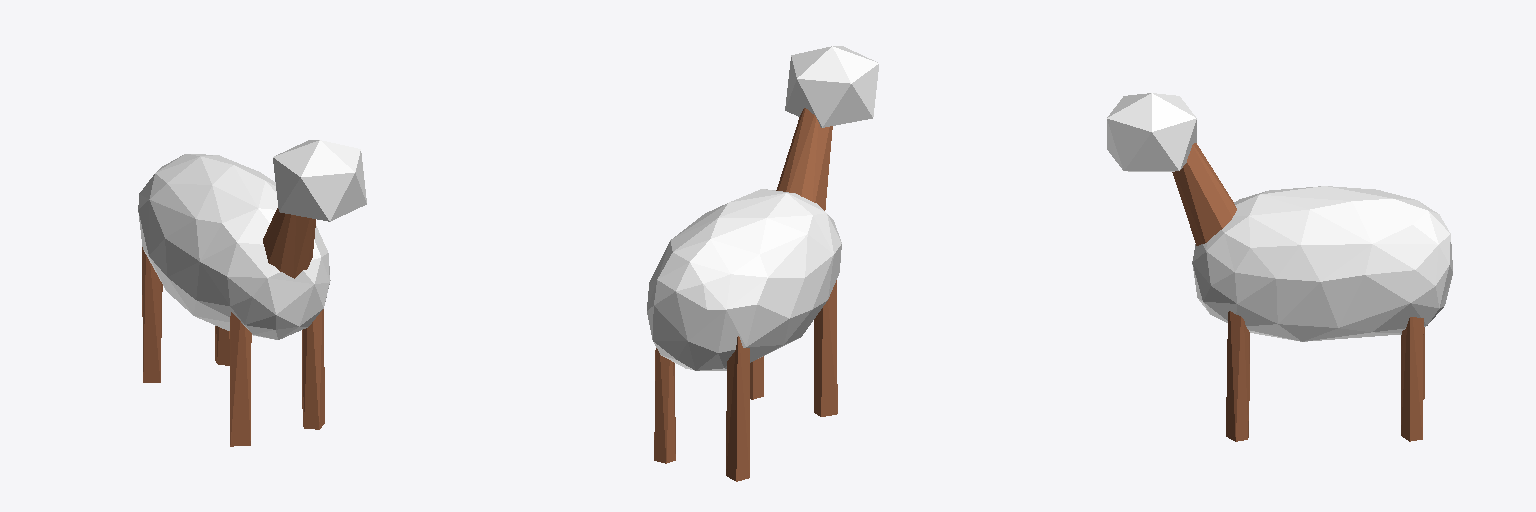
The picture shows the model from 3 angles: view 1: azimuth 30°, elevation 25°; view 2: azimuth 150°, elevation 25°; view 3: azimuth 270°, elevation 25°; orthographic projection.
Parts seen in each view (by area): view 1: GoodSheepMesh_Icosphere.001; view 2: GoodSheepMesh_Icosphere.001; view 3: GoodSheepMesh_Icosphere.001.
Boxes of the visible parts, x1=… form: GoodSheepMesh_Icosphere.001: x1=138, y1=140, x2=366, y2=446; GoodSheepMesh_Icosphere.001: x1=647, y1=46, x2=878, y2=481; GoodSheepMesh_Icosphere.001: x1=1107, y1=93, x2=1452, y2=441.
Size of the model in its own units: 1.8 by 4.21 by 4.06.
Materials: 1 (1 with a texture image).